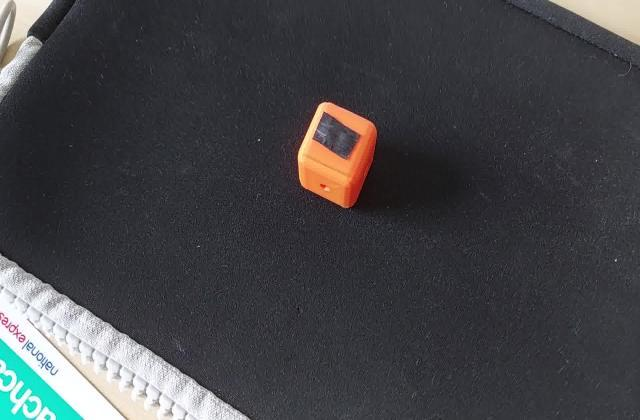black: (310, 119, 366, 163)
sticker: (297, 99, 382, 212)
